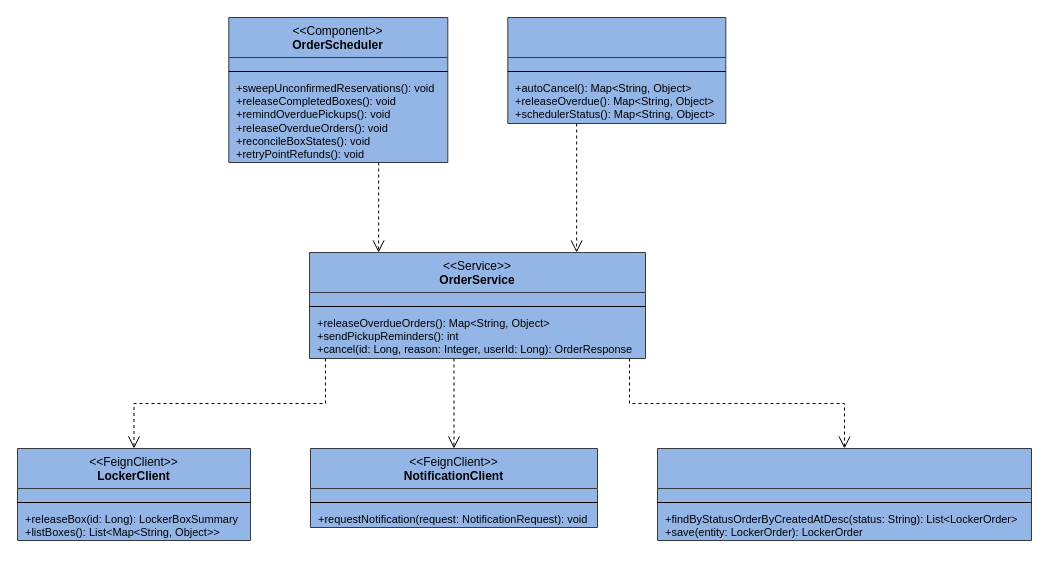
Image size: 1049x561. Some labels were removed from this diagram. Each missing label, with the box of its shape:
<<Controller>> OrderController: (507, 16, 726, 124)
<<Repository>> LockerOrderRepository: (656, 448, 1032, 540)
